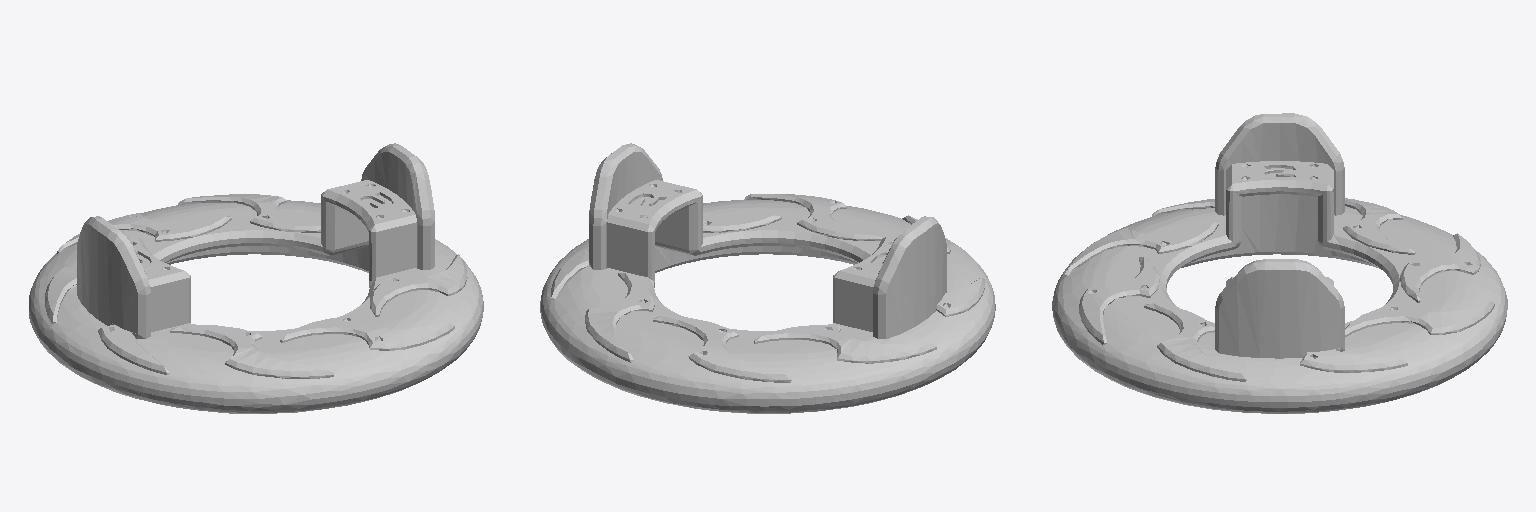
Rendered from spreaddisk.obj.
3 views of the same model, side by side, from view 1: azimuth 30°, elevation 25°; view 2: azimuth 150°, elevation 25°; view 3: azimuth 270°, elevation 25° (orthographic).
Parts seen in each view (by area): view 1: Mesh_0019out.002; view 2: Mesh_0019out.002; view 3: Mesh_0019out.002.
Boxes of the visible parts, <box> form: Mesh_0019out.002: <box>29,143,483,413</box>; Mesh_0019out.002: <box>540,143,995,413</box>; Mesh_0019out.002: <box>1052,113,1507,413</box>.
Bounding box in the file's own units: 0.4001 × 0.132 × 0.4001.